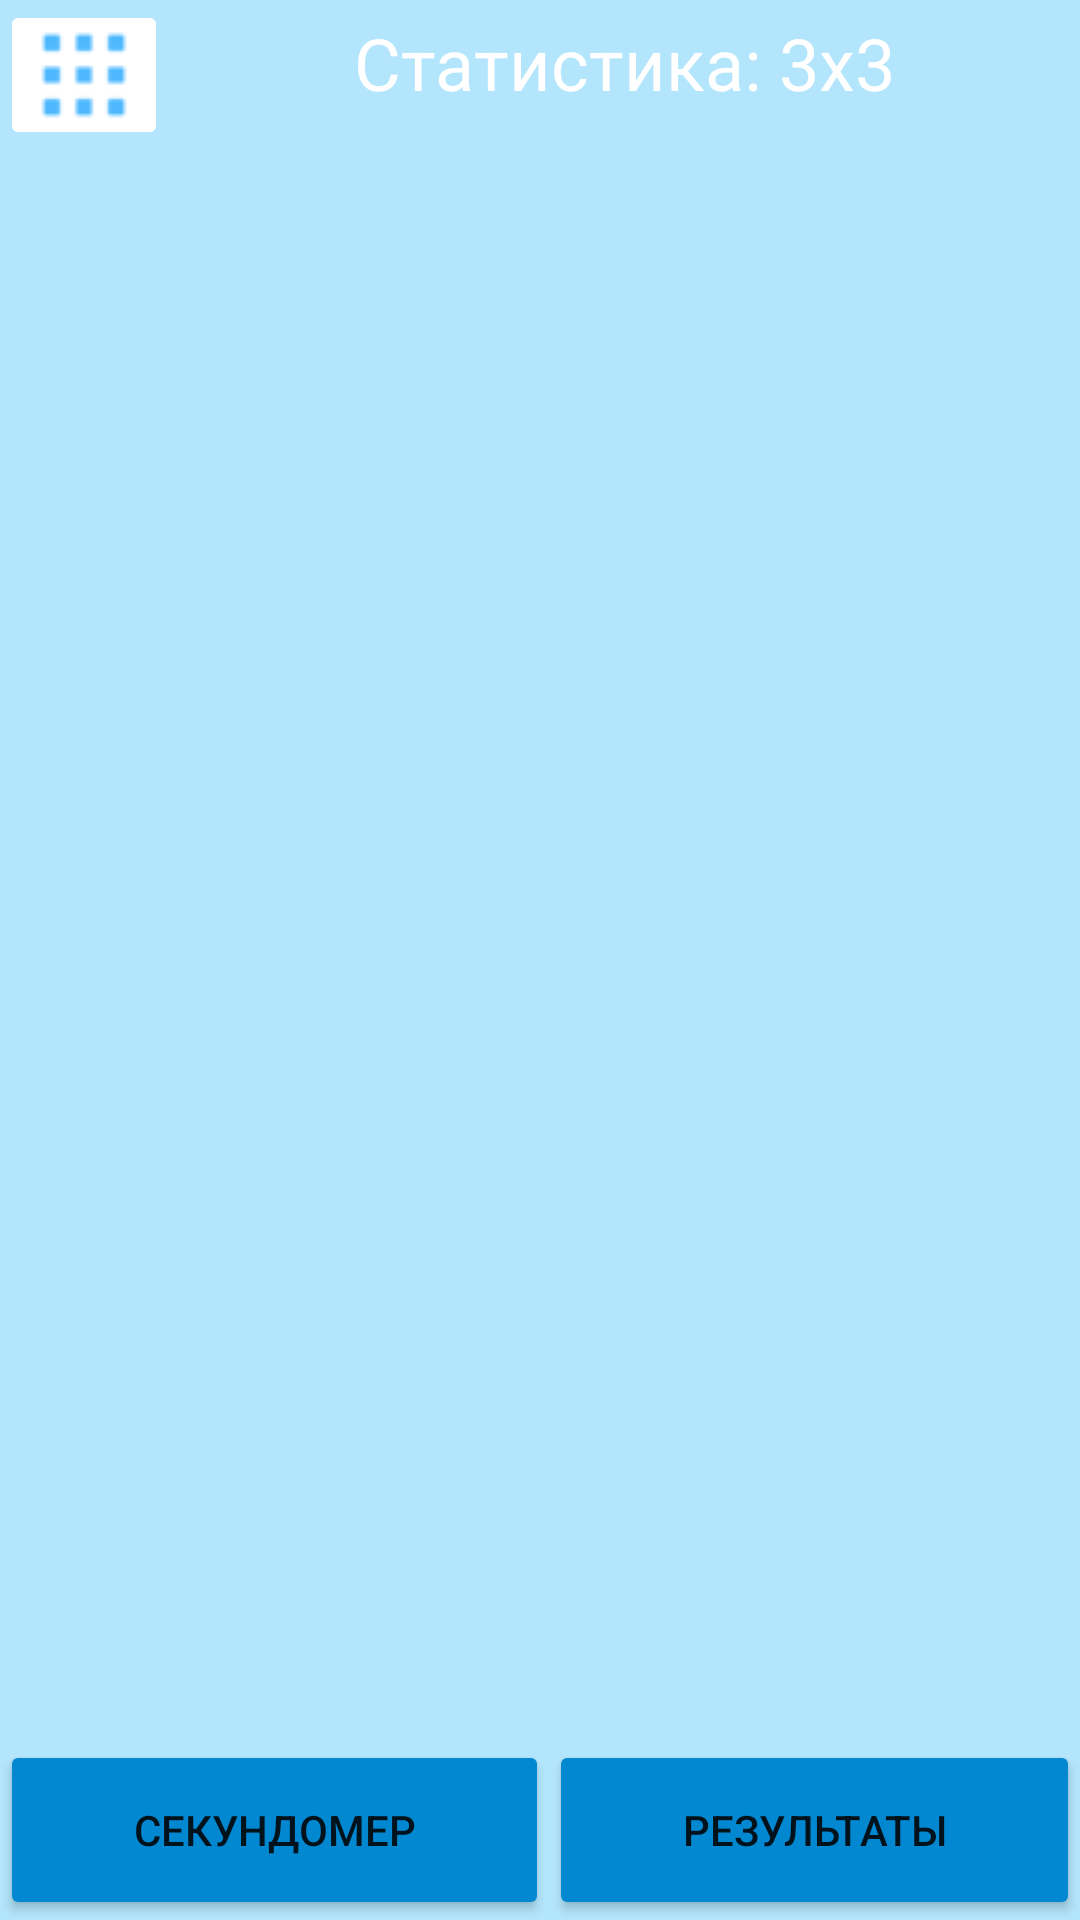

Named icons in this screenshot (1080px x 1920px) and their centers, point (x, y):
menu: point (84, 75)
